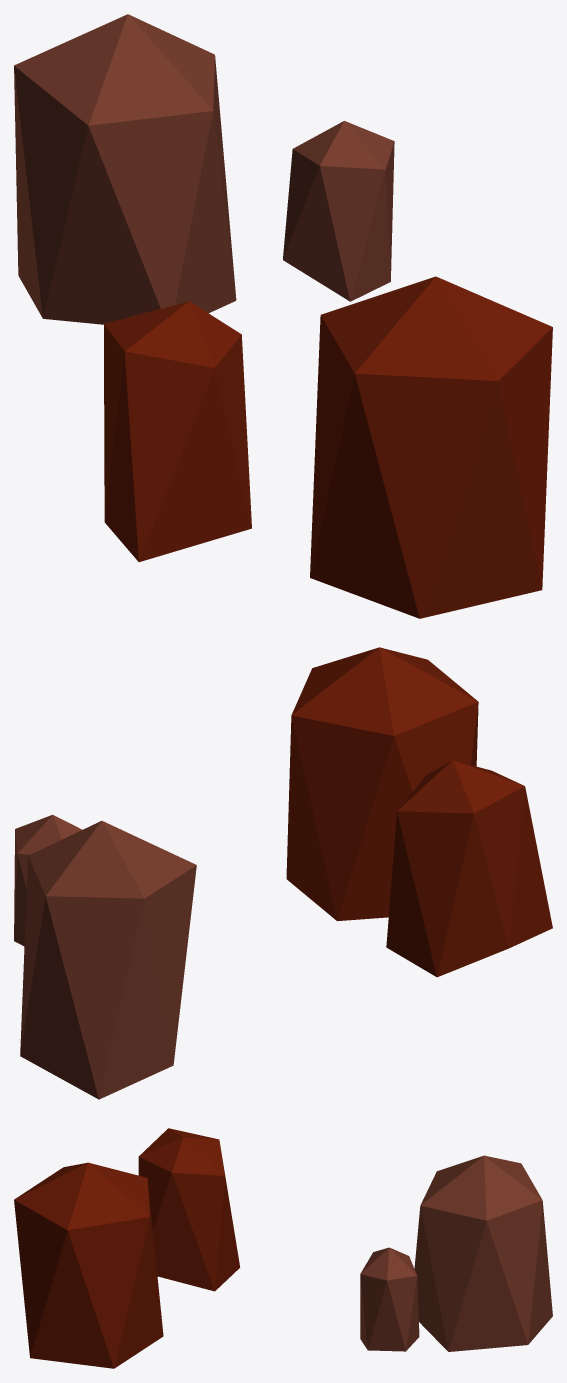
File: hillTree9cob.obj
3 views of the same model, one above another, from view 1: azimuth 30°, elevation 25°; view 2: azimuth 150°, elevation 25°; view 3: azimuth 270°, elevation 25° (orthographic). The views are drawn at different scales.
Parts seen in each view (by area): view 1: Icosphere.001, Icosphere.004_Icosphere.006; view 2: Icosphere.001, Icosphere.004_Icosphere.006; view 3: Icosphere.001, Icosphere.004_Icosphere.006.
Boxes of the visible parts, x1,y1,x2,y2 form: Icosphere.001: (104, 276, 552, 618); Icosphere.004_Icosphere.006: (14, 14, 394, 324); Icosphere.001: (286, 647, 552, 977); Icosphere.004_Icosphere.006: (14, 814, 196, 1099); Icosphere.001: (14, 1128, 240, 1368); Icosphere.004_Icosphere.006: (360, 1155, 552, 1351).
Bounding box in the file's own units: 1.87 × 1.22 × 3.12.
Materials: 2 (2 with a texture image).
